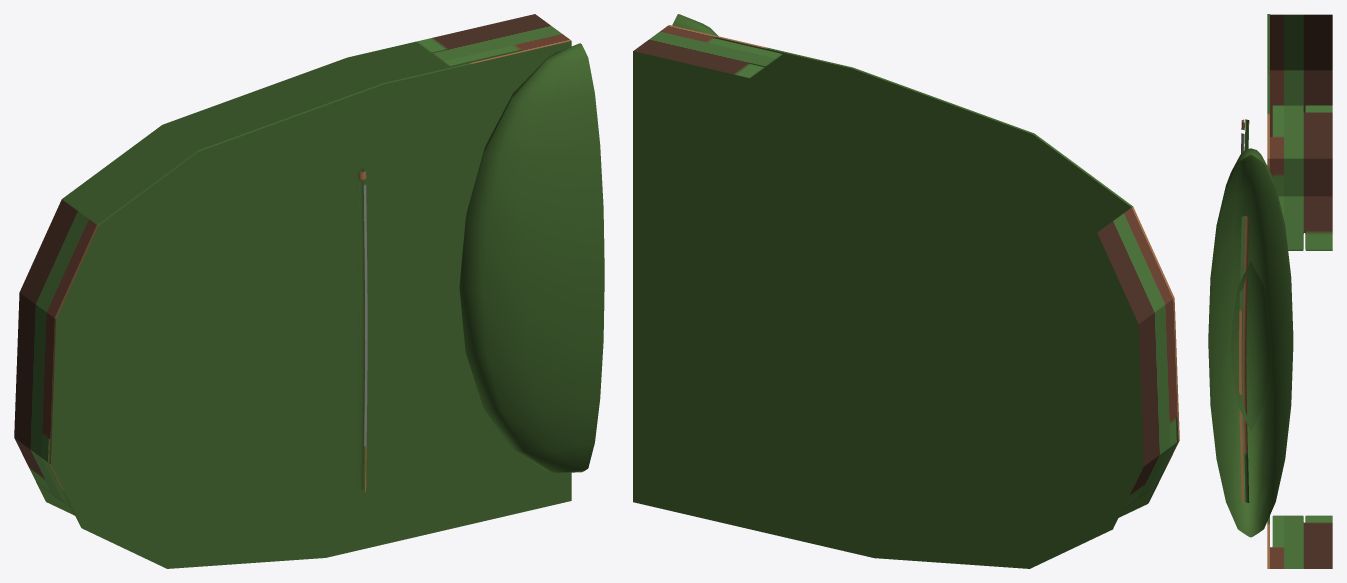
File: section-0.obj
3 views of the same model, side by side, from view 1: azimuth 30°, elevation 25°; view 2: azimuth 150°, elevation 25°; view 3: azimuth 270°, elevation 25° (orthographic). The views are drawn at different scales.
Bounding box in the file's own units: 0.985 × 0.8387 × 0.228.
